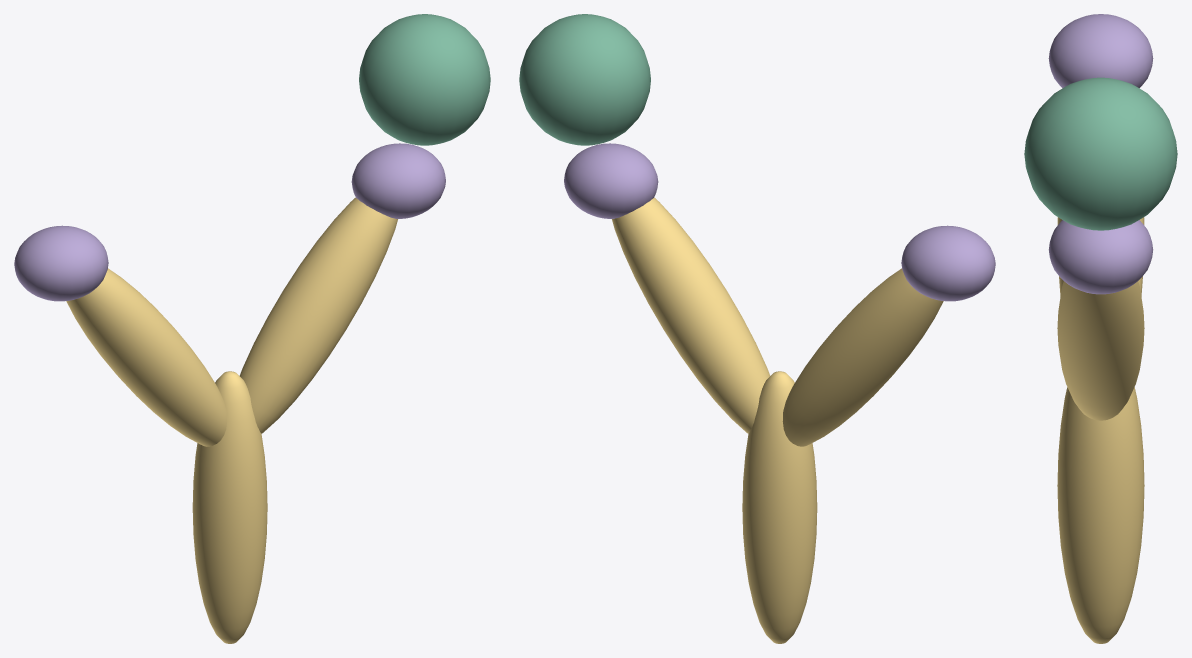
File: antibody.glb
3 renders of one model, left to right at view 1: azimuth 30°, elevation 25°; view 2: azimuth 150°, elevation 25°; view 3: azimuth 270°, elevation 25°, orthographic. The views are drawn at different scales.
Parts seen in each view (by area): view 1: Binding arm (×2), Antibody stem, Antigen target, Binding site (×2); view 2: Binding arm (×2), Antibody stem, Antigen target, Binding site (×2); view 3: Antigen target, Antibody stem, Binding site (×2), Binding arm.
Part boxes in pixels (left/top/right/bottom): Binding arm (×2): left=66, top=197, right=397, bottom=446; Antibody stem: left=192, top=371, right=267, bottom=643; Antigen target: left=359, top=14, right=490, bottom=145; Binding site (×2): left=14, top=143, right=445, bottom=301; Binding arm (×2): left=612, top=197, right=943, bottom=446; Antibody stem: left=742, top=371, right=817, bottom=643; Antigen target: left=519, top=14, right=650, bottom=145; Binding site (×2): left=564, top=143, right=995, bottom=301; Antigen target: left=1024, top=77, right=1177, bottom=230; Antibody stem: left=1057, top=387, right=1144, bottom=643; Binding site (×2): left=1048, top=14, right=1153, bottom=294; Binding arm: left=1057, top=281, right=1144, bottom=420.
Bounding box in the file's own units: 0.356 × 0.424 × 0.088.
